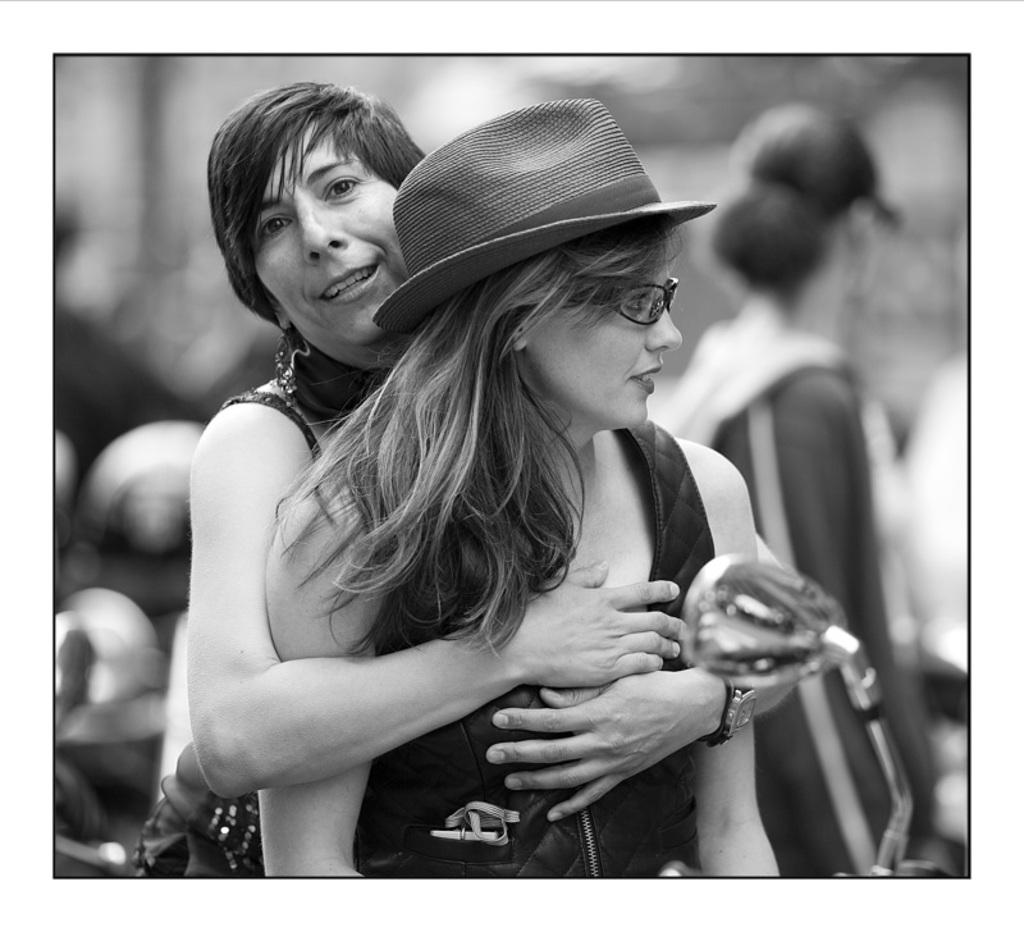Hat: (370, 96, 718, 334)
